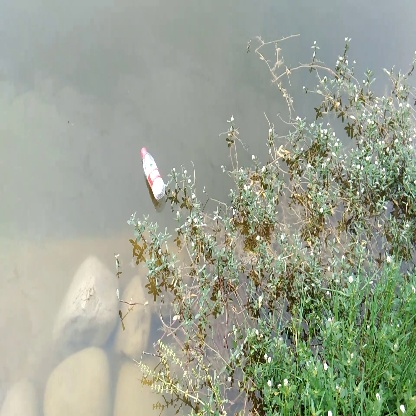bottle: (134, 144, 178, 211)
